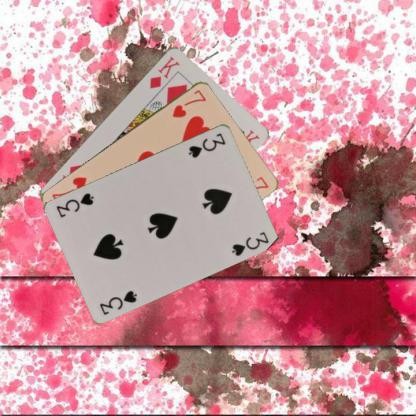3s: (97, 287, 139, 316), (186, 130, 227, 159)
7h: (169, 86, 207, 119)
Kd: (147, 53, 181, 90)
